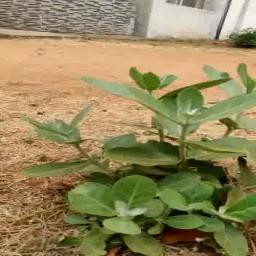CALOTROPIS: (43, 64, 247, 253)
